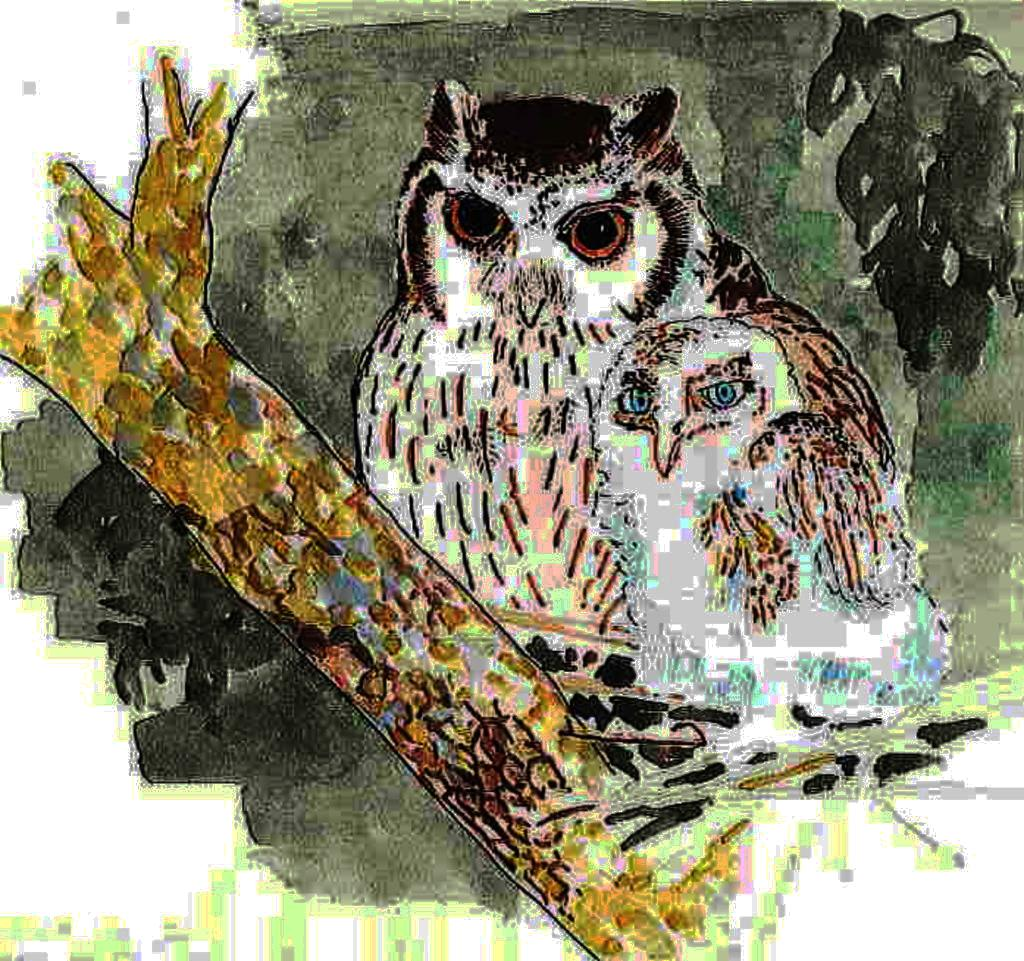Owl: (348, 76, 782, 636), (590, 294, 948, 739)
